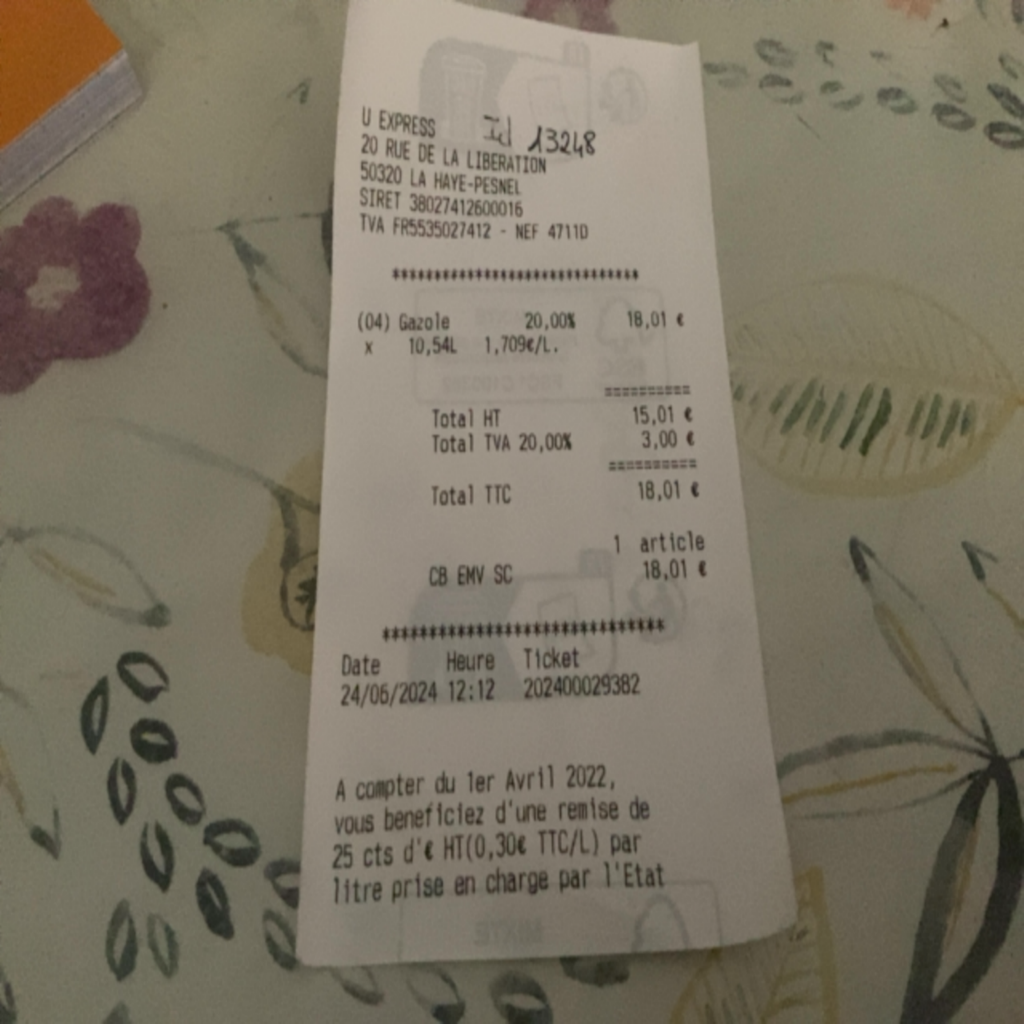recipt: (296, 0, 791, 963)
